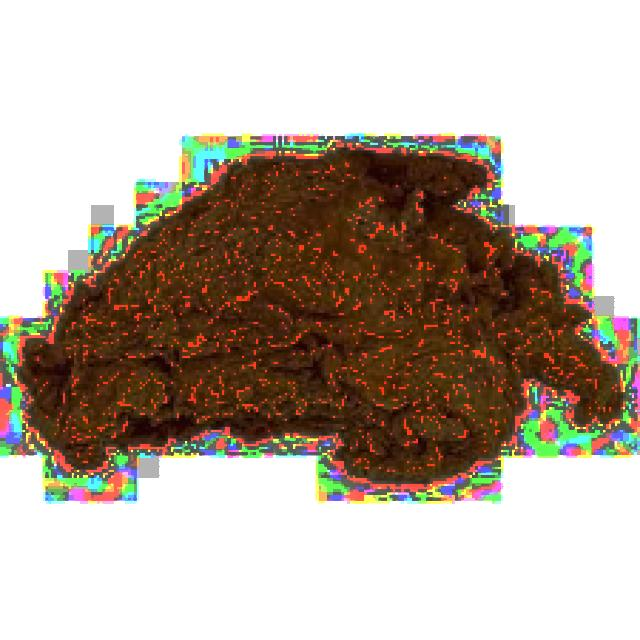fried_chicken: (23, 145, 623, 492)
